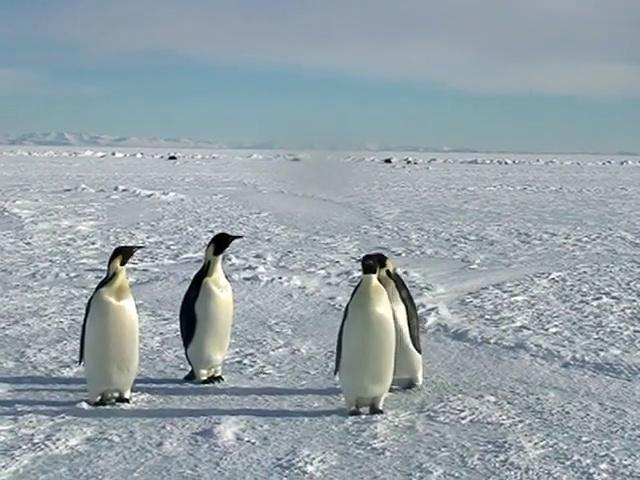animal: (340, 255, 397, 414)
